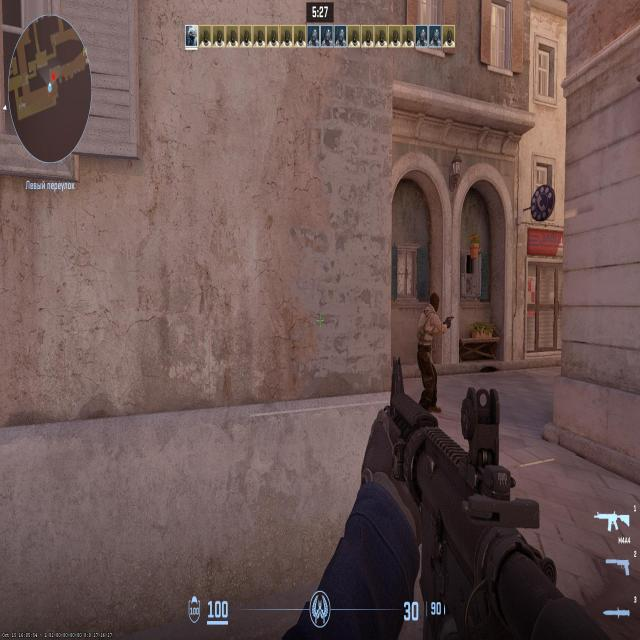T: (426, 297, 442, 416)
T_heat: (430, 296, 440, 310)
